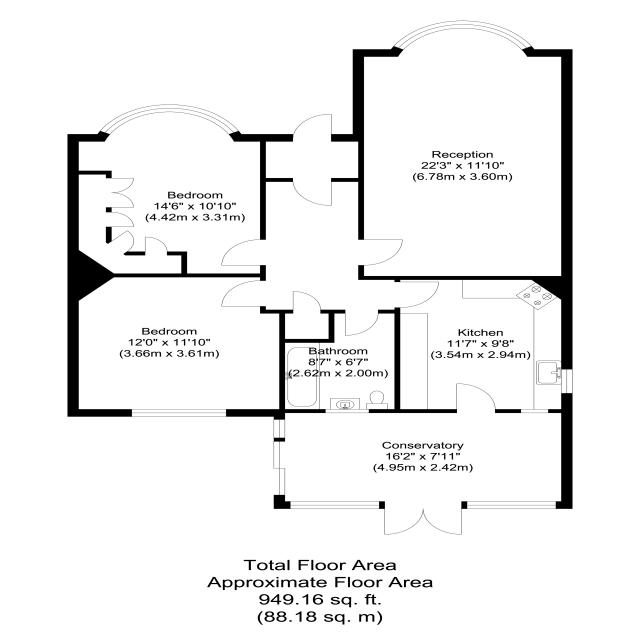DOOR: (218, 237, 269, 267), (357, 238, 406, 268), (289, 111, 335, 142), (289, 177, 335, 208), (455, 382, 499, 414), (393, 281, 442, 309), (219, 280, 266, 307), (343, 309, 381, 337), (291, 290, 323, 314)
DOUBLE DOOR: (382, 501, 463, 535)
ROOM: (352, 20, 573, 300), (272, 382, 573, 536), (67, 103, 267, 301), (67, 103, 266, 301), (67, 250, 286, 417), (393, 275, 573, 413)
WINDOW: (99, 103, 241, 136), (392, 20, 534, 52), (466, 500, 557, 510), (130, 408, 227, 417), (289, 500, 381, 509), (560, 368, 574, 394), (273, 419, 286, 439), (519, 408, 551, 414), (325, 409, 370, 413)
